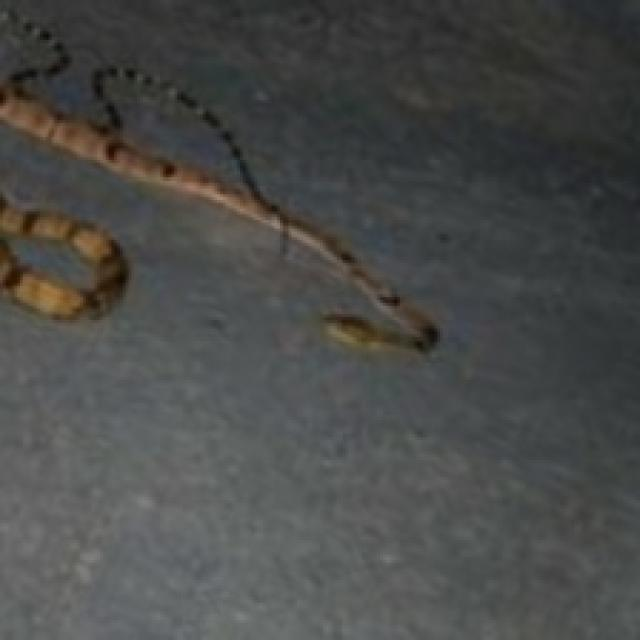dog-toothed cat snake: (0, 11, 437, 349), (117, 100, 240, 186)
